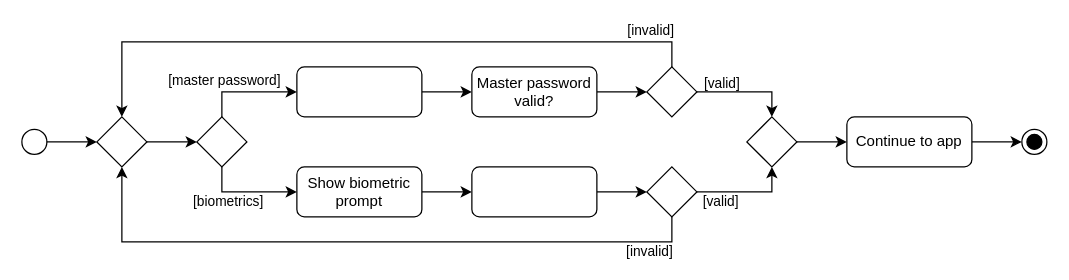
The diagram is 1069 pixels wide and 280 high, and some of its shapes have lost their labels. The centre of each missing label's shape, as x and y in pixels:
Biometrics valid?: the point at 534,191
Enter master password: the point at 359,91
